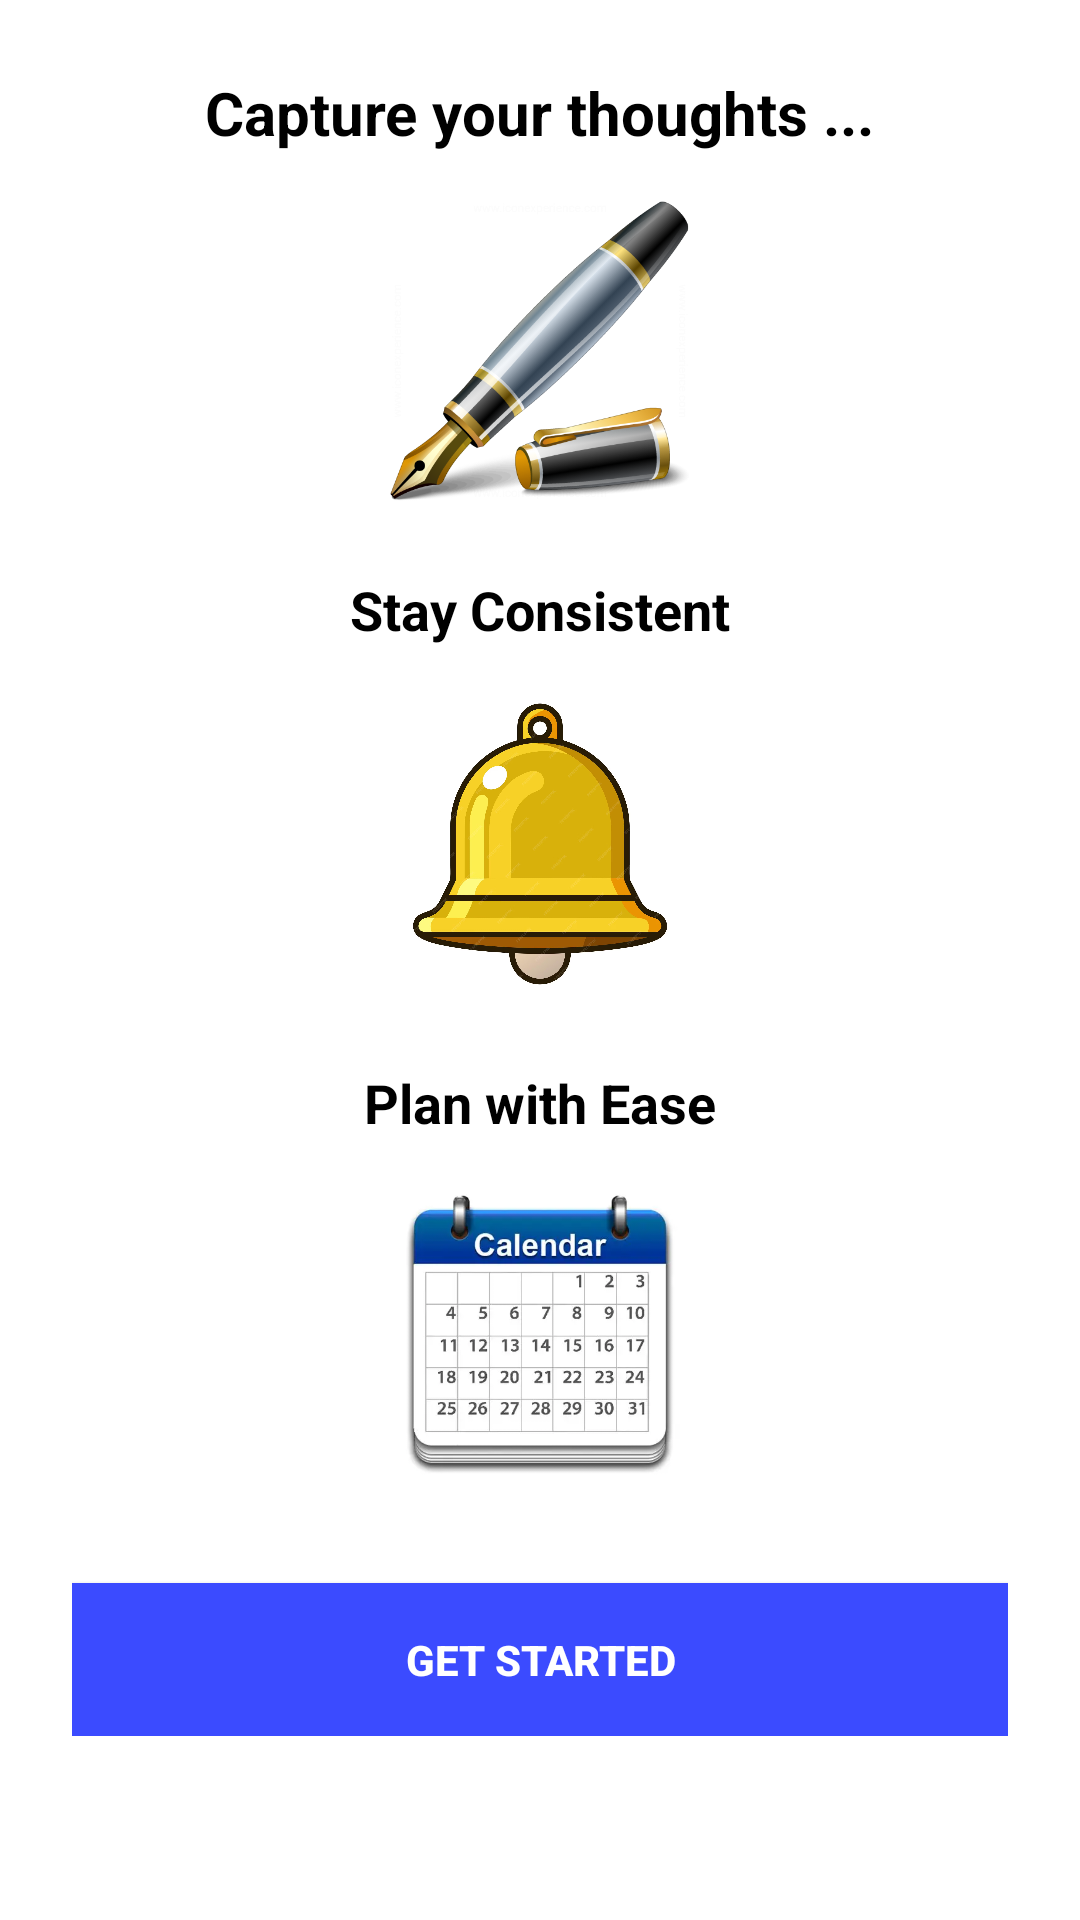

Icon click points for this 1080 x 1920 phone screenshot, format (x=x, y=y):
Bell Icon: (x=540, y=844)
Pen Icon: (x=539, y=350)
